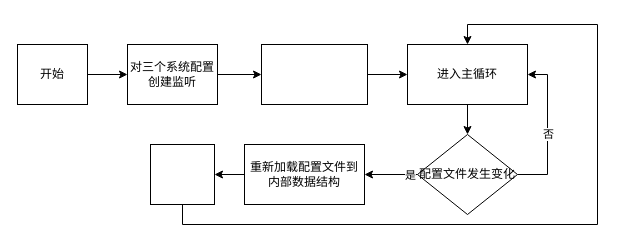
This 623x250 diagram has some shape labels left out. The shapes that lost their labels are listed below. From the top down, each one's centre as x and y in pixels, then its label:
At (314,74): "加载三个系统配置到内部数据结构".
At (182,174): "发送文件变化的信号".
